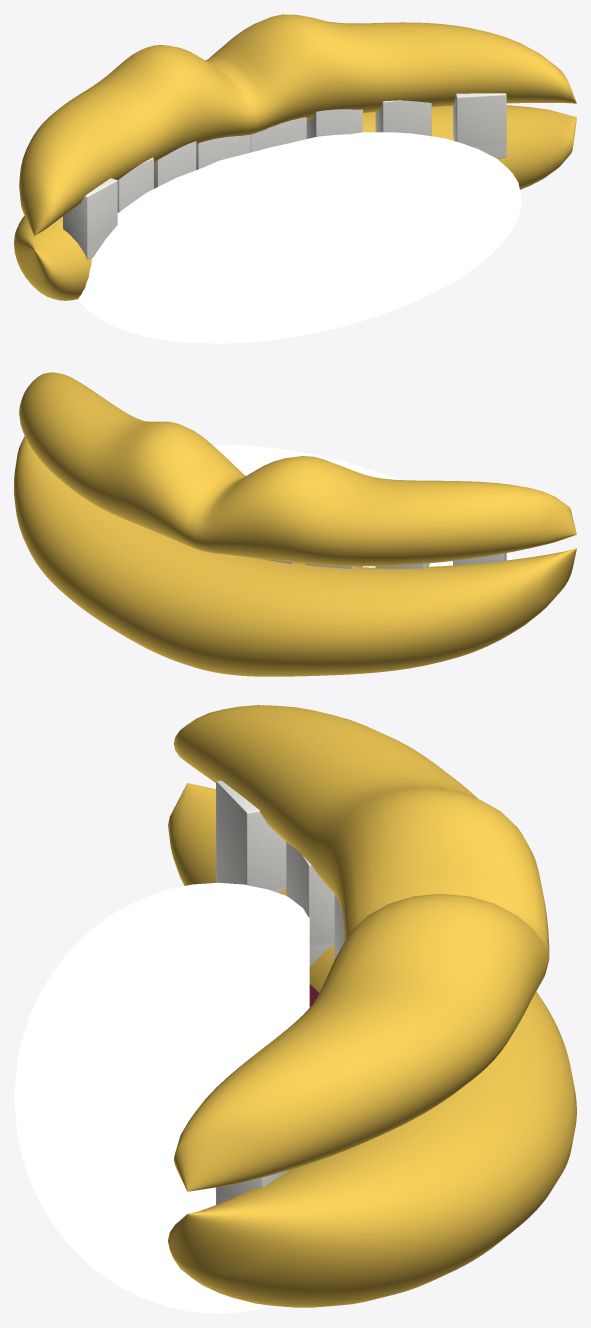
File: loud_mouth.glb
The picture shows the model from 3 angles, top to bottom: view 1: azimuth 30°, elevation 25°; view 2: azimuth 150°, elevation 25°; view 3: azimuth 270°, elevation 25°; orthographic projection. The views are drawn at different scales.
Parts seen in each view (by area): view 1: Glow, UpperLip, LowerLip, LowerTooth_7, LowerTooth_0, LowerTooth_6, UpperTooth_0, UpperTooth_7, LowerTooth_3, LowerTooth_5, LowerTooth_2, LowerTooth_4 (+2 smaller); view 2: LowerLip, UpperLip, Glow; view 3: UpperLip, Glow, LowerLip, LowerTooth_0, LowerTooth_1, UpperTooth_0.
Boxes of the visible parts, <box> form: Glow: <box>78,132,521,343</box>; UpperLip: <box>19,14,576,235</box>; LowerLip: <box>14,105,576,300</box>; LowerTooth_7: <box>453,93,506,146</box>; LowerTooth_0: <box>63,178,117,246</box>; LowerTooth_6: <box>375,100,431,136</box>; UpperTooth_0: <box>63,194,117,259</box>; UpperTooth_7: <box>453,105,506,158</box>; LowerTooth_3: <box>196,134,250,169</box>; LowerTooth_5: <box>312,109,362,136</box>; LowerTooth_2: <box>154,141,196,188</box>; LowerTooth_4: <box>250,117,306,152</box>; LowerLip: <box>14,436,576,676</box>; UpperLip: <box>19,372,576,566</box>; Glow: <box>212,444,512,567</box>; UpperLip: <box>174,705,549,1191</box>; Glow: <box>14,882,309,1313</box>; LowerLip: <box>168,783,576,1307</box>; LowerTooth_0: <box>216,780,286,890</box>; LowerTooth_1: <box>286,842,334,946</box>; UpperTooth_0: <box>216,803,286,892</box>.
Bounding box in the file's own units: 1 × 0.4101 × 0.552.
